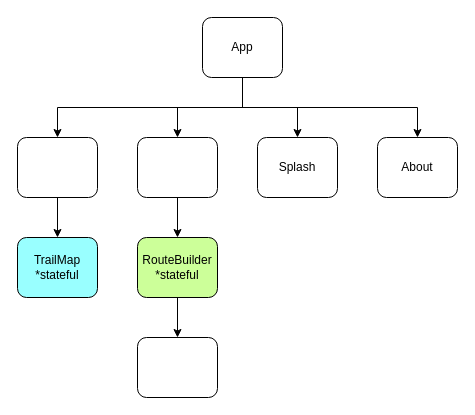
Some shapes in this 475 by 415 pixel diagram are drawn without their labels. Each missing label, with the centre of its shape:
"Explore" belongs at (57,167).
"Planner" belongs at (177,167).
"SurfaceChart" belongs at (177,367).
